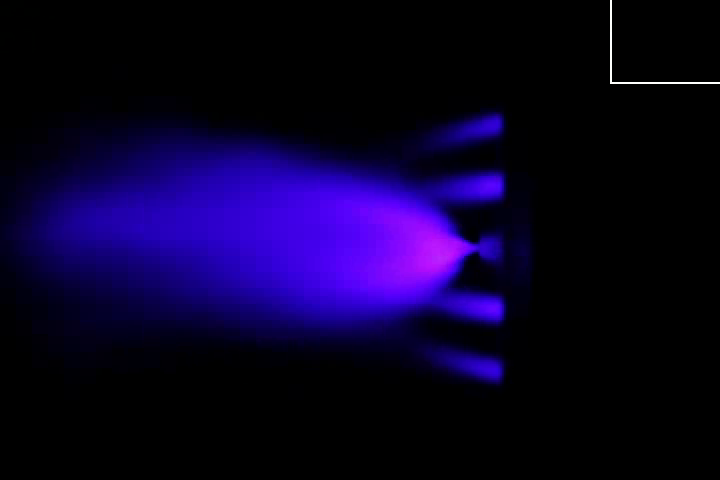burner cap: (476, 231, 510, 267)
pilot flame: (414, 338, 504, 389), (414, 173, 511, 209), (431, 289, 509, 327), (426, 109, 502, 143)
unstable: (357, 207, 481, 299)
